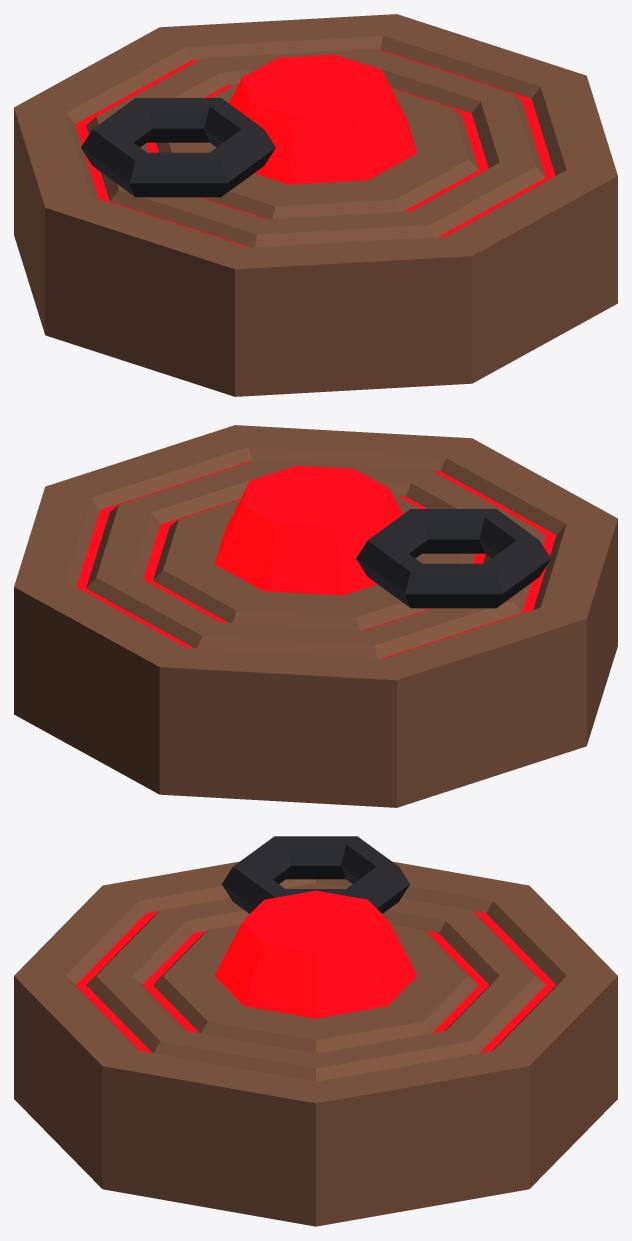
Rendered from LPWarPack_LandMine.fbx.
3 views of the same model, one above another, from view 1: azimuth 30°, elevation 25°; view 2: azimuth 150°, elevation 25°; view 3: azimuth 270°, elevation 25° (orthographic). The views are drawn at different scales.
Parts seen in each view (by area): view 1: LandMine; view 2: LandMine; view 3: LandMine.
Part boxes in pixels (box(x1,y1,x2,y2)): LandMine: box(14, 14, 617, 396); LandMine: box(14, 425, 617, 807); LandMine: box(14, 836, 617, 1226).
Size of the model in its own units: 48.07 by 15.57 by 48.07.
